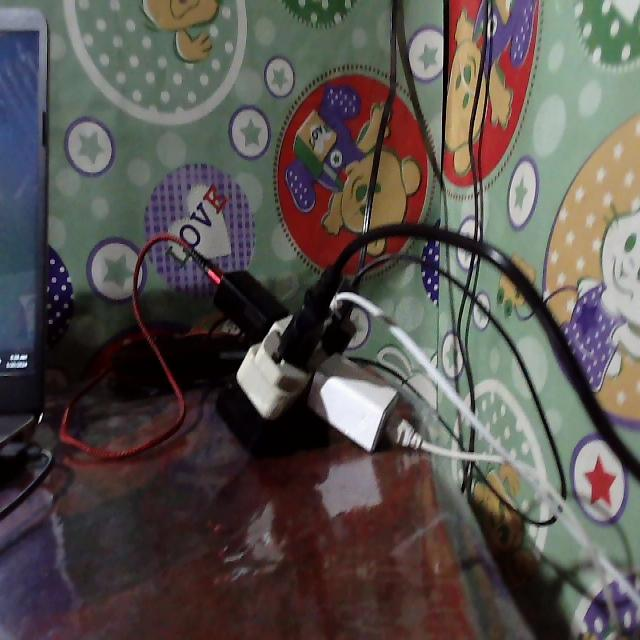-: (120, 139, 577, 524)
